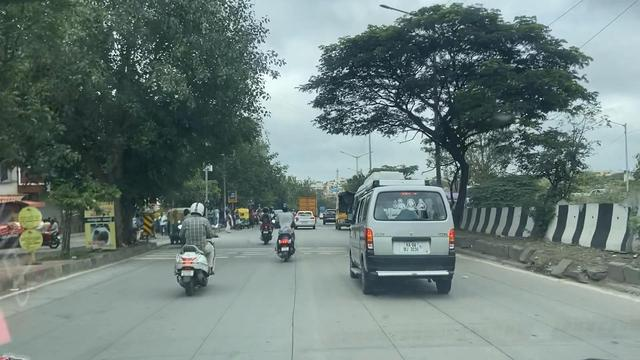LMV: (348, 183, 454, 294), (161, 204, 228, 297), (282, 203, 301, 262)
